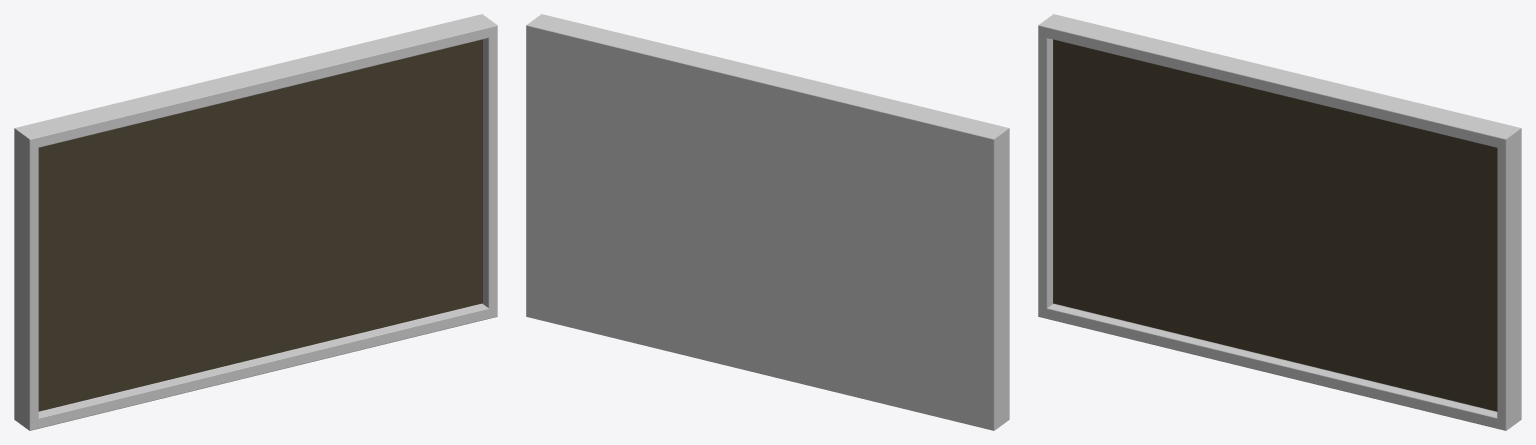
Rendered from BulleteinBoardFINAL.fbx.
3 views of the same model, side by side, from view 1: azimuth 30°, elevation 25°; view 2: azimuth 150°, elevation 25°; view 3: azimuth 330°, elevation 25° (orthographic).
Parts seen in each view (by area): view 1: Bulletin; view 2: Bulletin; view 3: Bulletin.
Boxes of the visible parts, left/top/right/bottom form: Bulletin: left=14, top=14, right=497, bottom=430; Bulletin: left=526, top=14, right=1009, bottom=430; Bulletin: left=1038, top=14, right=1521, bottom=430.
Size of the model in its own units: 502 by 299 by 28.9.
